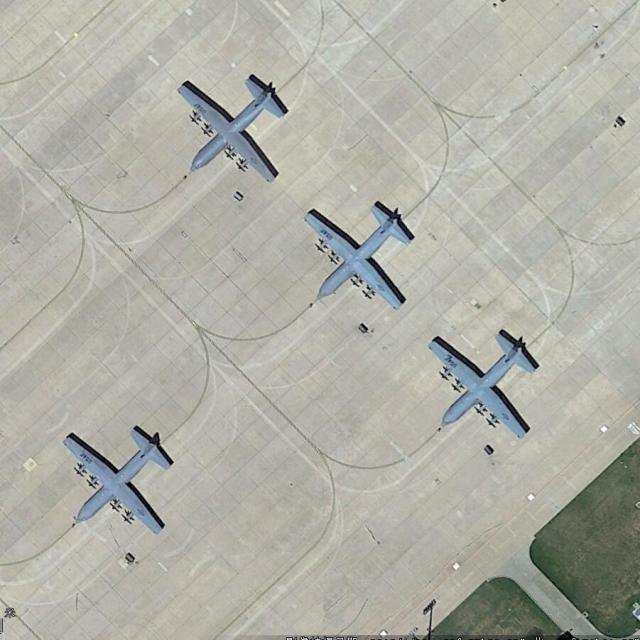fighter jet: (56, 426, 178, 538), (418, 336, 547, 437), (303, 204, 421, 309), (178, 75, 292, 181)
